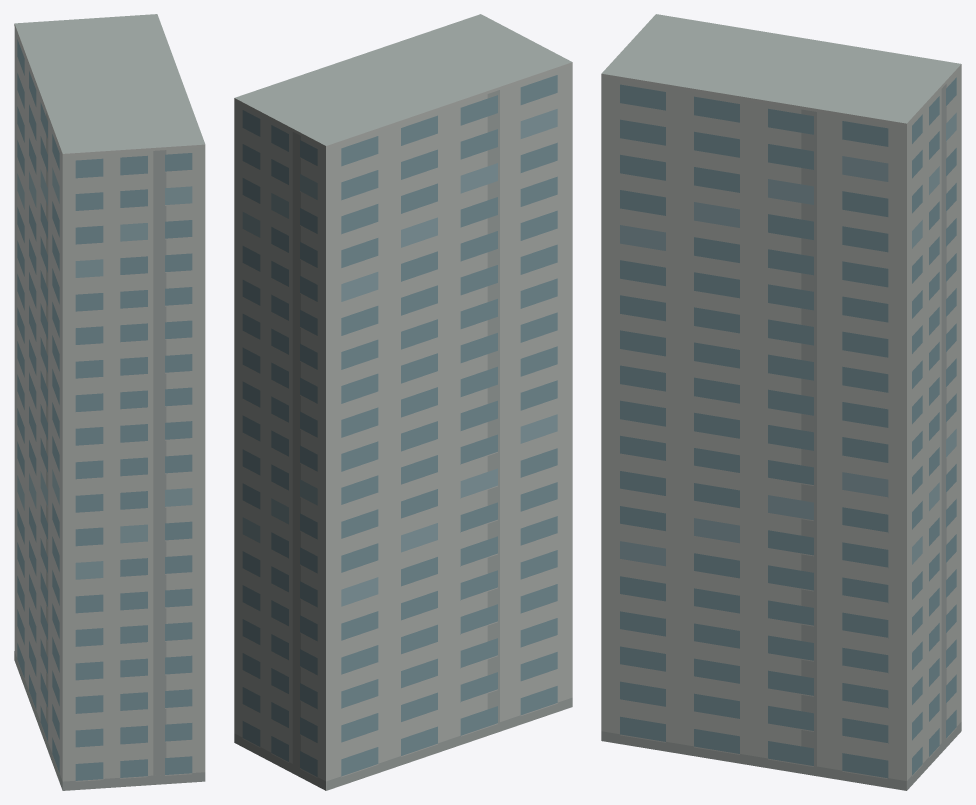
File: residential-58870471-2b79-42a5-9d84-50f79a4c6878.glb
The picture shows the model from 3 angles, left to right: view 1: azimuth 30°, elevation 25°; view 2: azimuth 150°, elevation 25°; view 3: azimuth 270°, elevation 25°; orthographic projection. The views are drawn at different scales.
Parts seen in each view (by area): view 1: residential-58870471-2b79-42a5-9d84-50f79a4c6878.tmp; view 2: residential-58870471-2b79-42a5-9d84-50f79a4c6878.tmp; view 3: residential-58870471-2b79-42a5-9d84-50f79a4c6878.tmp.
Part boxes in pixels (x1,y1,x2,y2): residential-58870471-2b79-42a5-9d84-50f79a4c6878.tmp: (14, 14, 205, 790); residential-58870471-2b79-42a5-9d84-50f79a4c6878.tmp: (234, 14, 572, 790); residential-58870471-2b79-42a5-9d84-50f79a4c6878.tmp: (601, 14, 961, 790).
Size of the model in its own units: 18.68 by 53 by 25.94.
